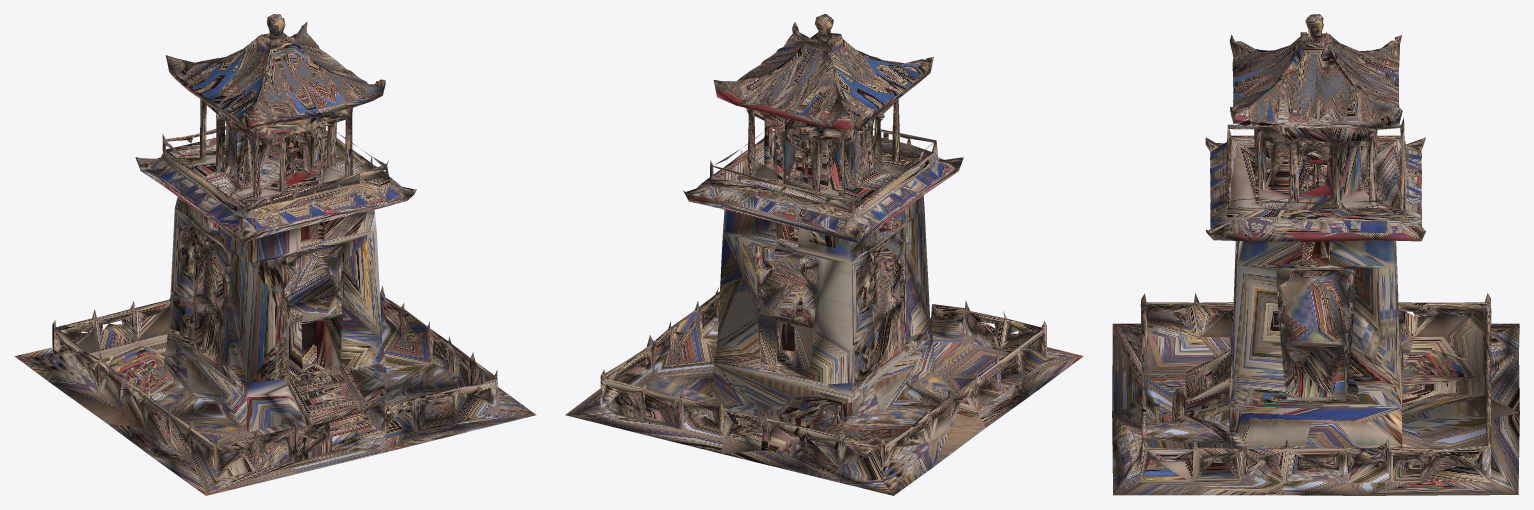
The model's file is bq_sword_tower.lod.glb.
3 views of the same model, side by side, from view 1: azimuth 30°, elevation 25°; view 2: azimuth 150°, elevation 25°; view 3: azimuth 270°, elevation 25° (orthographic). The views are drawn at different scales.
Size of the model in its own units: 1.74 by 1.87 by 1.73.
Materials: 1 (1 with a texture image).
